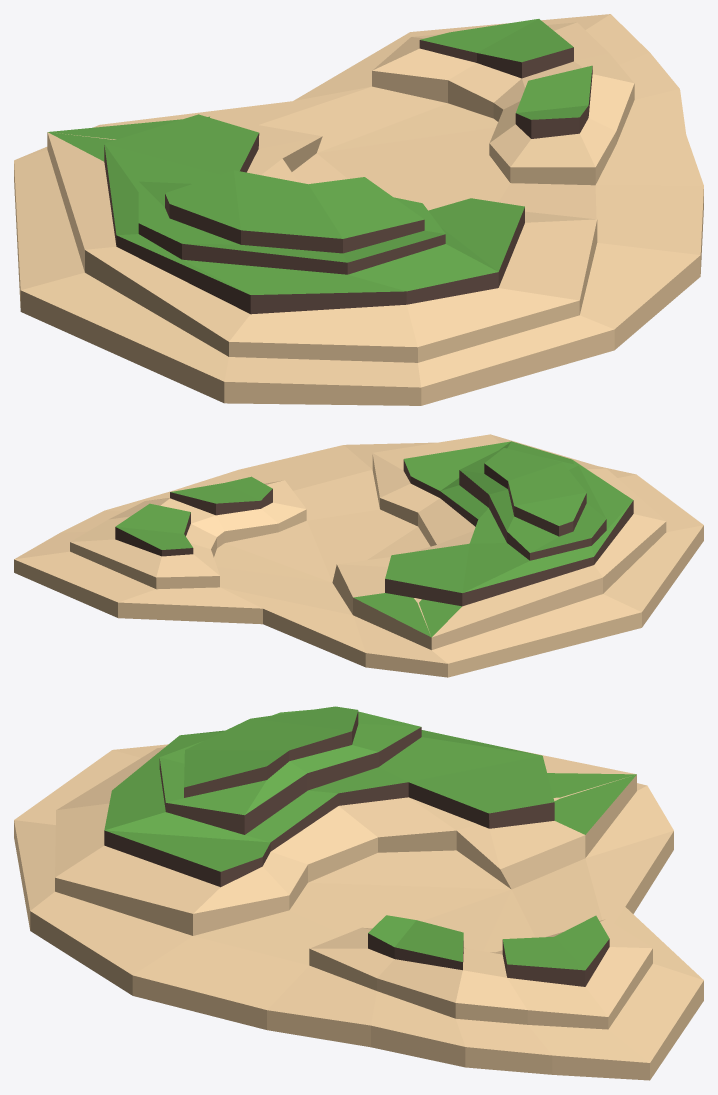
3 renders of one model, top to bottom at view 1: azimuth 30°, elevation 25°; view 2: azimuth 150°, elevation 25°; view 3: azimuth 270°, elevation 25°, orthographic. The views are drawn at different scales.
Parts seen in each view (by area): view 1: island_5; view 2: island_5; view 3: island_5.
Boxes of the visible parts, bbox=[...] form: island_5: bbox=[14, 14, 703, 405]; island_5: bbox=[14, 434, 703, 677]; island_5: bbox=[14, 706, 703, 1080].
Bounding box in the file's own units: 1414 × 209 × 1222.
